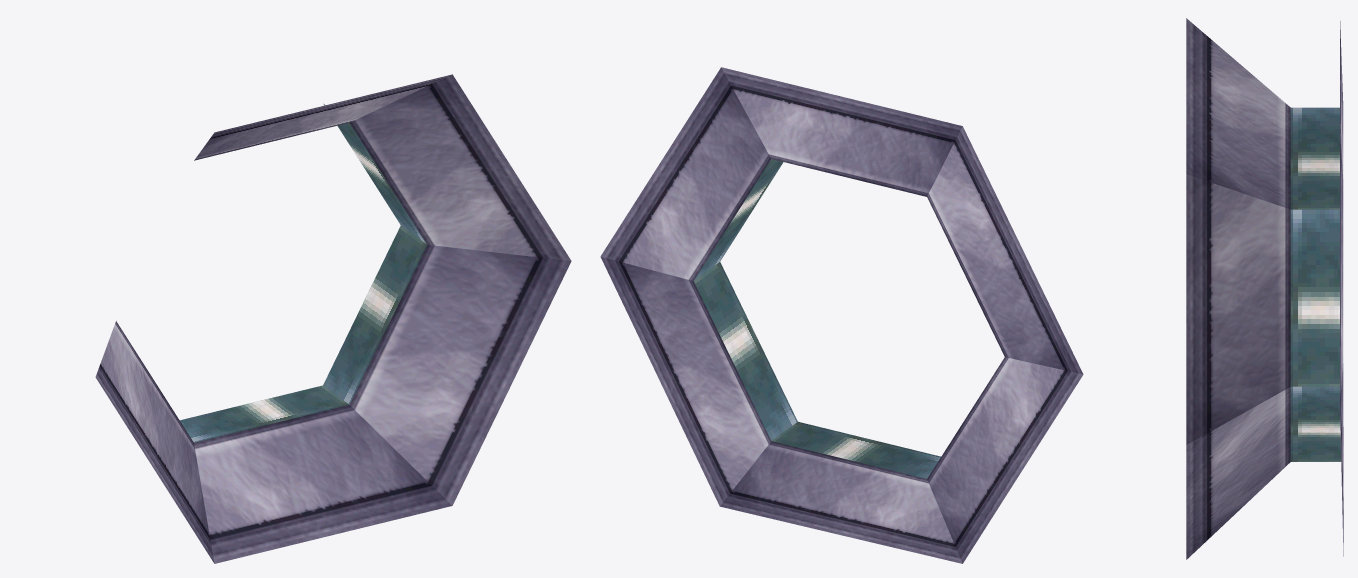
Rendered from fan.glb.
The picture shows the model from 3 angles, left to right: view 1: azimuth 30°, elevation 25°; view 2: azimuth 150°, elevation 25°; view 3: azimuth 270°, elevation 25°; orthographic projection.
Visible parts, largest first — view 1: fan; view 2: fan; view 3: fan.
Part boxes in pixels (x1=…): fan: x1=95, y1=74, x2=571, y2=563; fan: x1=600, y1=67, x2=1083, y2=563; fan: x1=1186, y1=18, x2=1343, y2=559.
Bounding box in the file's own units: 3667 × 3176 × 1045.
Materials: 2 (2 with a texture image).
